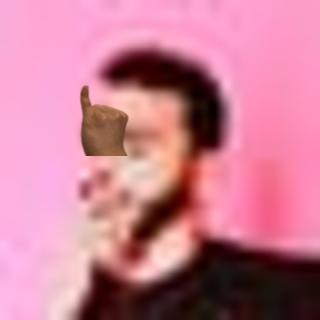FINE: (74, 81, 131, 154)
